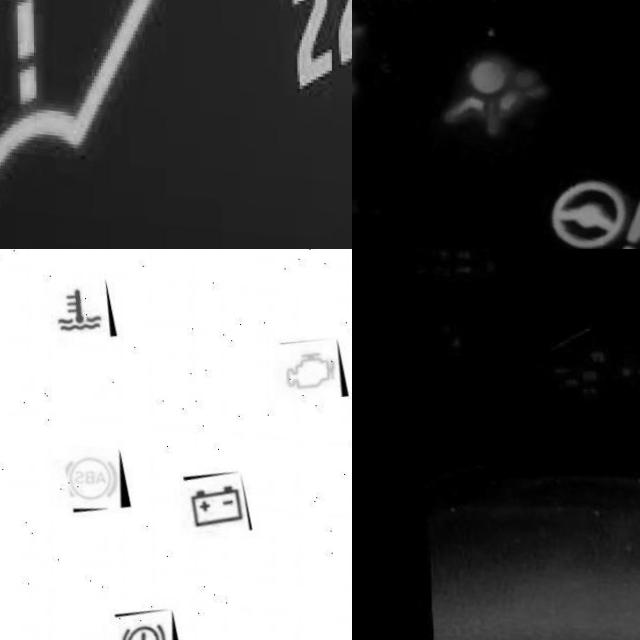High Engine Coolant Temperature: (450, 334, 467, 352)
Washer Fluid: (0, 0, 160, 200)
